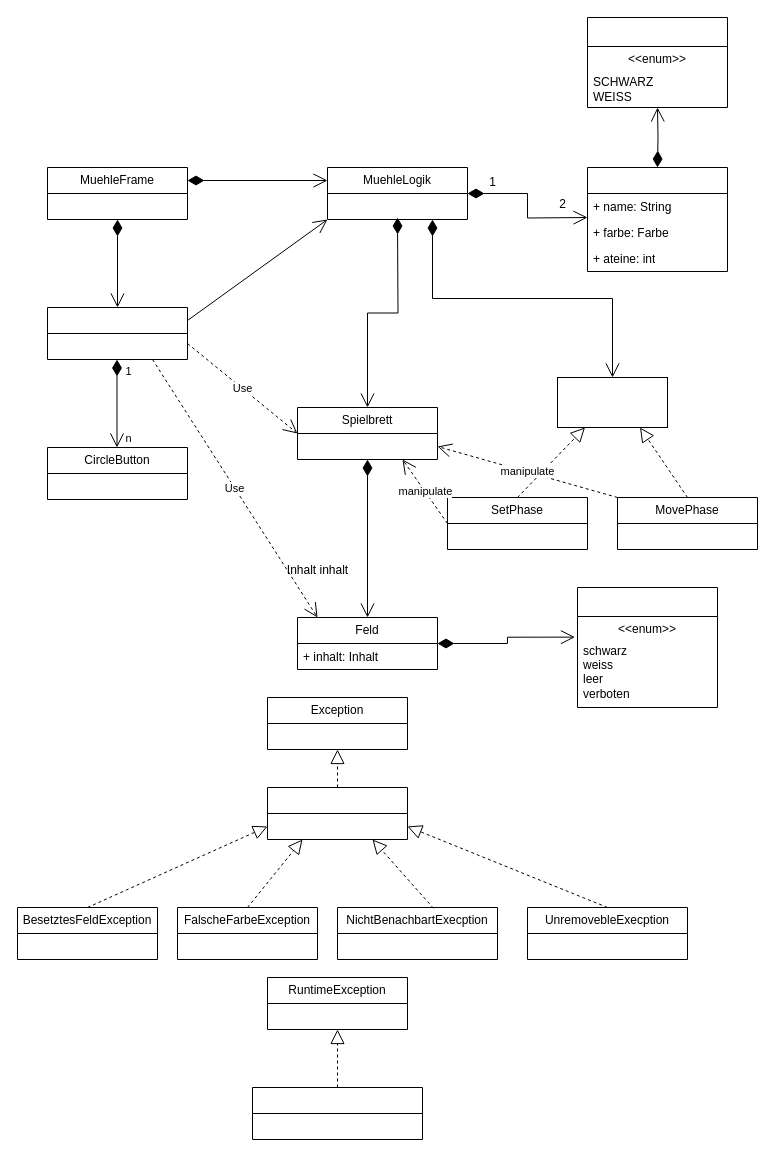
Image size: 775x1157. Some labels were removed from this diagram. Each missing label, with the box of its shape:
DrawBoard: (46, 306, 188, 360)
Farbe: (586, 16, 728, 108)
Inhalt: (576, 586, 718, 708)
LogikException: (266, 786, 408, 840)
Spieler: (586, 166, 728, 272)
VerbotenesFeldException: (252, 1086, 422, 1140)
«interface» Spielphase: (556, 376, 668, 428)
